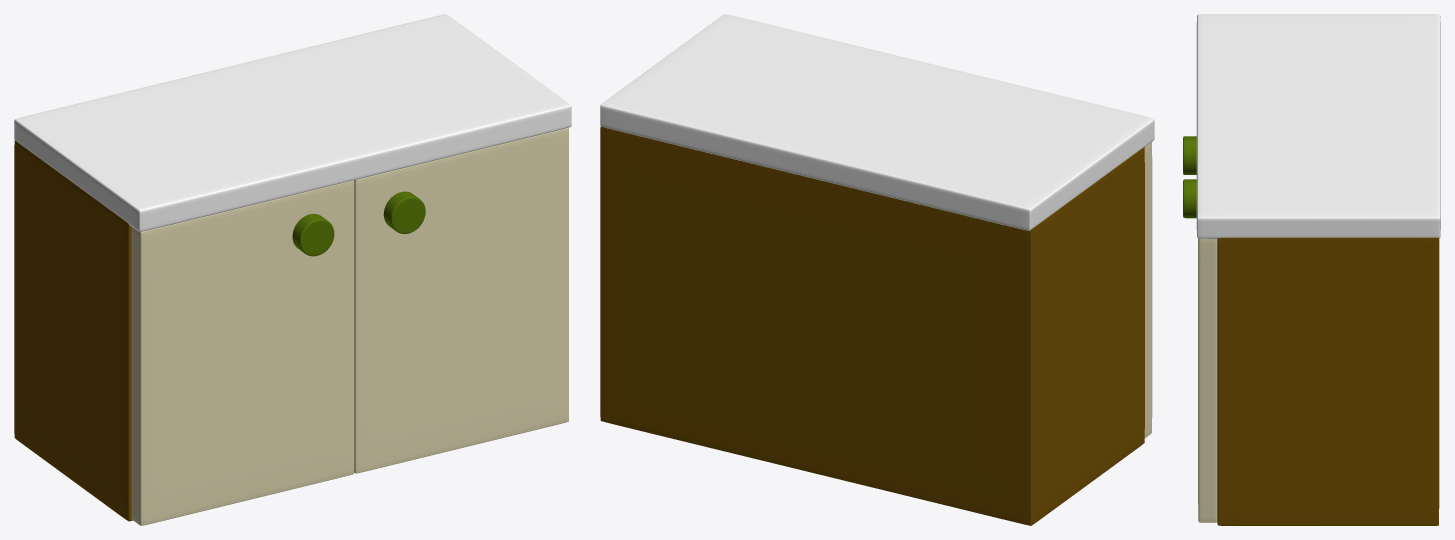
The model's file is kitchen_counter.fbx.
3 renders of one model, left to right at view 1: azimuth 30°, elevation 25°; view 2: azimuth 150°, elevation 25°; view 3: azimuth 270°, elevation 25°, orthographic. The views are drawn at different scales.
Parts seen in each view (by area): view 1: counter_body, counter_left_door, counter_right_door; view 2: counter_body, counter_left_door; view 3: counter_body, counter_right_door, counter_left_door.
Boxes of the visible parts, box(x1,y1,x2,y2) form: counter_body: box(14, 14, 571, 521); counter_left_door: box(131, 180, 354, 525); counter_right_door: box(354, 127, 568, 473); counter_body: box(600, 14, 1154, 525); counter_left_door: box(1144, 142, 1152, 437); counter_body: box(1196, 14, 1440, 525); counter_right_door: box(1183, 179, 1217, 522); counter_left_door: box(1183, 136, 1196, 174).
Bounding box in the file's own units: 14.49 × 10.19 × 7.71.
